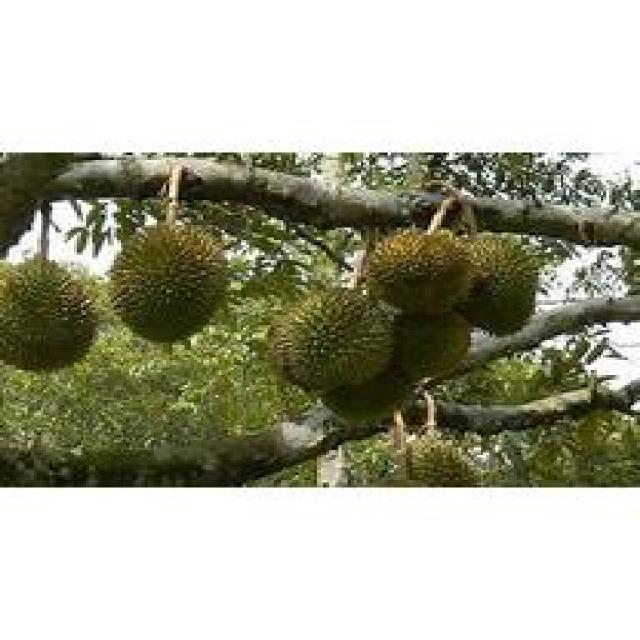fruit: (348, 208, 557, 370), (92, 198, 243, 358), (259, 255, 406, 405), (0, 240, 108, 388)
